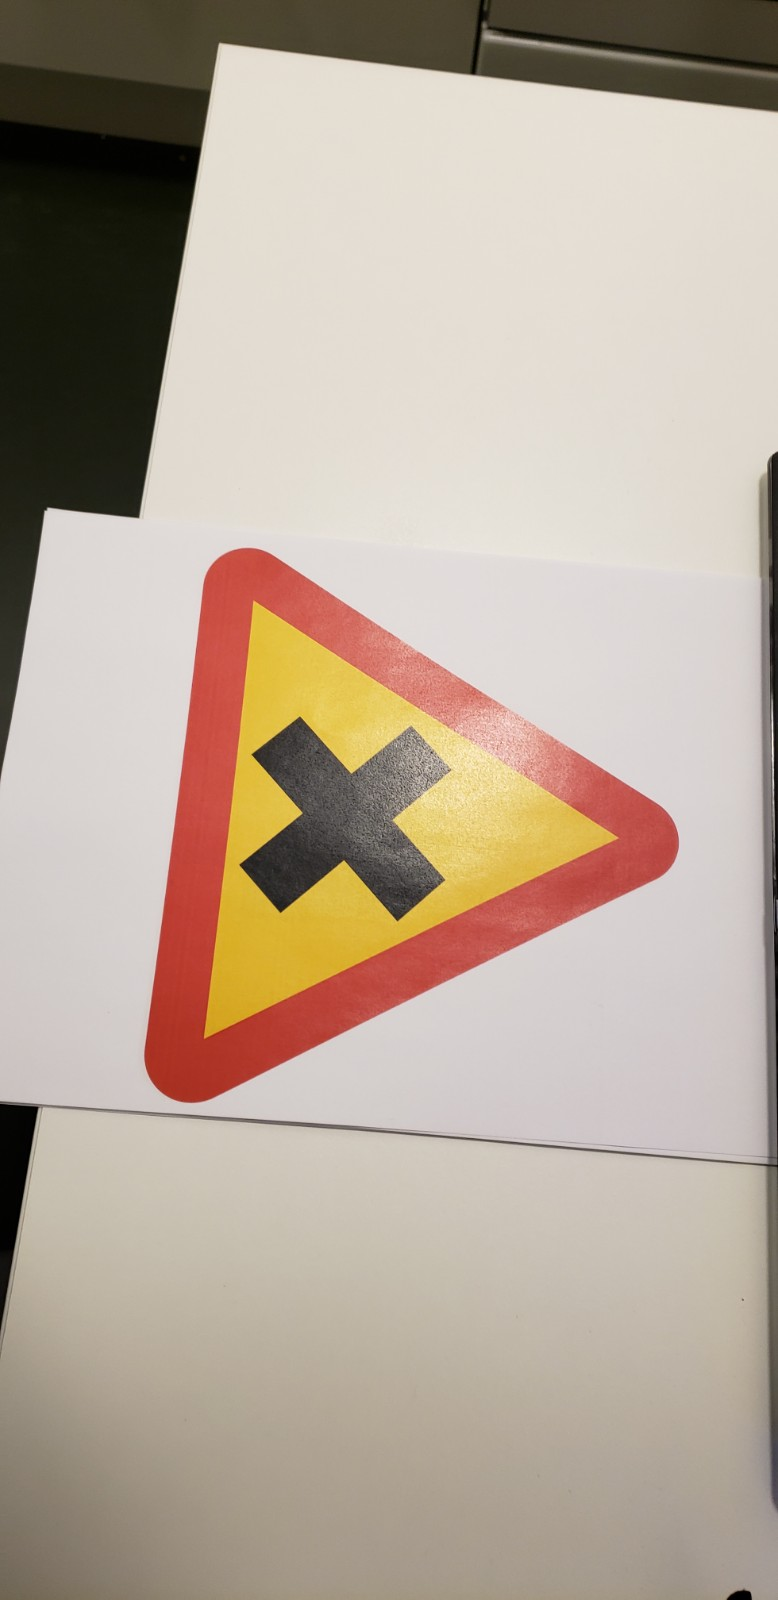junction: (175, 522, 675, 1097)
